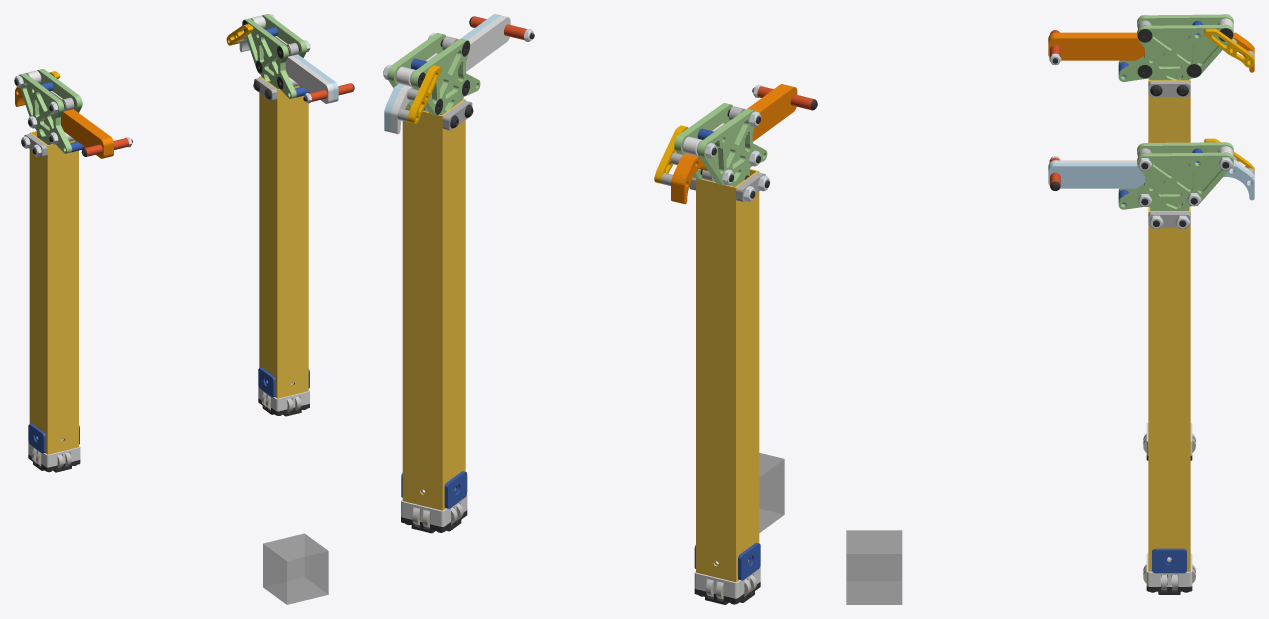
3 renders of one model, left to right at view 1: azimuth 30°, elevation 25°; view 2: azimuth 150°, elevation 25°; view 3: azimuth 270°, elevation 25°, orthographic. The views are drawn at different scales.
Parts seen in each view (by area): view 1: Tube 1.5"x1.5"x14.125" (×2), Origin Cube (×2), Part 31-Mirrored, Part 41, Part 37-Mirrored, Part 36, WCP-0419-007 Rev1_2 (×2), Part 41-Mirrored, Part 31; view 2: Tube 1.5"x1.5"x14.125" (×2), Origin Cube (×2), Part 31-Mirrored, Part 41, Part 37-Mirrored, Part 36, WCP-0419-007 Rev1_2 (×2), Part 30 (×2), Part 41-Mirrored, Part 31, Part 40, Part 36-Mirrored (+1 smaller); view 3: Tube 1.5"x1.5"x14.125" (×2), Origin Cube (×2), Part 31, Part 41-Mirrored, Part 37, Part 36-Mirrored, Part 31-Mirrored, Part 41, Part 30, Part 40, WCP-0419-007 Rev1_2.
Boxes of the visible parts, x1=… form: Tube 1.5"x1.5"x14.125" (×2): x1=29, y1=76, x2=308, y2=454; Origin Cube (×2): x1=263, y1=533, x2=328, y2=604; Part 31-Mirrored: x1=18, y1=73, x2=72, y2=153; Part 41: x1=242, y1=18, x2=296, y2=98; Part 37-Mirrored: x1=15, y1=87, x2=108, y2=158; Part 36: x1=239, y1=39, x2=333, y2=103; WCP-0419-007 Rev1_2 (×2): x1=28, y1=382, x2=309, y2=467; Part 41-Mirrored: x1=37, y1=69, x2=85, y2=147; Part 31: x1=262, y1=14, x2=310, y2=92; Tube 1.5"x1.5"x14.125" (×2): x1=402, y1=99, x2=759, y2=582; Origin Cube (×2): x1=759, y1=453, x2=784, y2=532; Part 31-Mirrored: x1=697, y1=108, x2=767, y2=186; Part 41: x1=410, y1=38, x2=480, y2=115; Part 37-Mirrored: x1=677, y1=85, x2=797, y2=204; Part 36: x1=391, y1=15, x2=510, y2=134; WCP-0419-007 Rev1_2 (×2): x1=401, y1=489, x2=760, y2=598; Part 30 (×2): x1=444, y1=471, x2=760, y2=580; Part 41-Mirrored: x1=674, y1=103, x2=732, y2=179; Part 31: x1=387, y1=33, x2=446, y2=108; Part 40: x1=407, y1=65, x2=441, y2=123; Part 36-Mirrored: x1=671, y1=84, x2=787, y2=202; Tube 1.5"x1.5"x14.125" (×2): x1=1148, y1=79, x2=1190, y2=571; Origin Cube (×2): x1=846, y1=530, x2=901, y2=604; Part 31: x1=1118, y1=152, x2=1233, y2=210; Part 41-Mirrored: x1=1118, y1=25, x2=1233, y2=81; Part 37: x1=1048, y1=163, x2=1254, y2=200; Part 36-Mirrored: x1=1048, y1=35, x2=1254, y2=72; Part 31-Mirrored: x1=1118, y1=14, x2=1233, y2=64; Part 41: x1=1118, y1=142, x2=1233, y2=192; Part 30: x1=1152, y1=548, x2=1186, y2=573; Part 40: x1=1204, y1=28, x2=1254, y2=67; WCP-0419-007 Rev1_2: x1=1146, y1=553, x2=1192, y2=586.
Bounding box in the file's own units: 0.3429 × 0.5064 × 0.3691.
